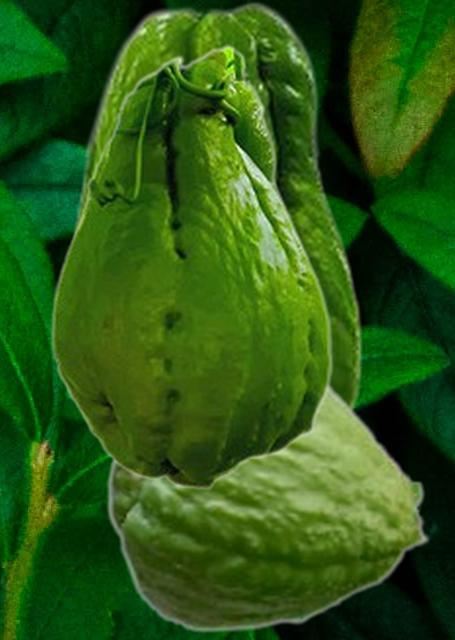sayote: (66, 0, 362, 443), (50, 44, 333, 490), (106, 384, 431, 633)
